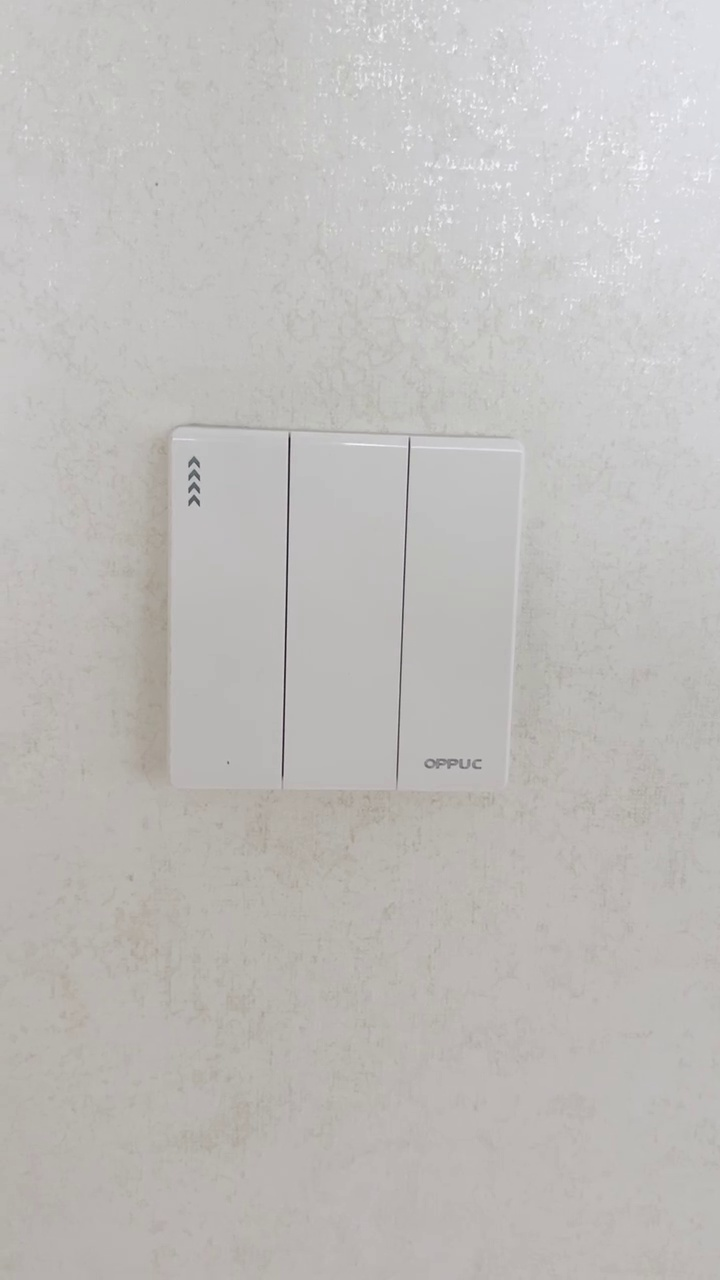button1: (174, 442, 284, 784), (291, 442, 399, 782), (404, 442, 510, 785)
